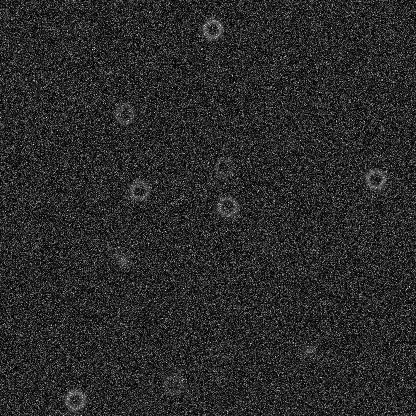Ring: (62, 388, 86, 412), (161, 372, 185, 396), (112, 101, 136, 125), (127, 178, 151, 202), (200, 17, 224, 41), (363, 167, 387, 191), (215, 194, 239, 218), (215, 338, 239, 362), (211, 155, 235, 179), (259, 233, 283, 257)
Spot: (300, 341, 316, 357), (115, 252, 131, 268), (281, 137, 297, 153)
